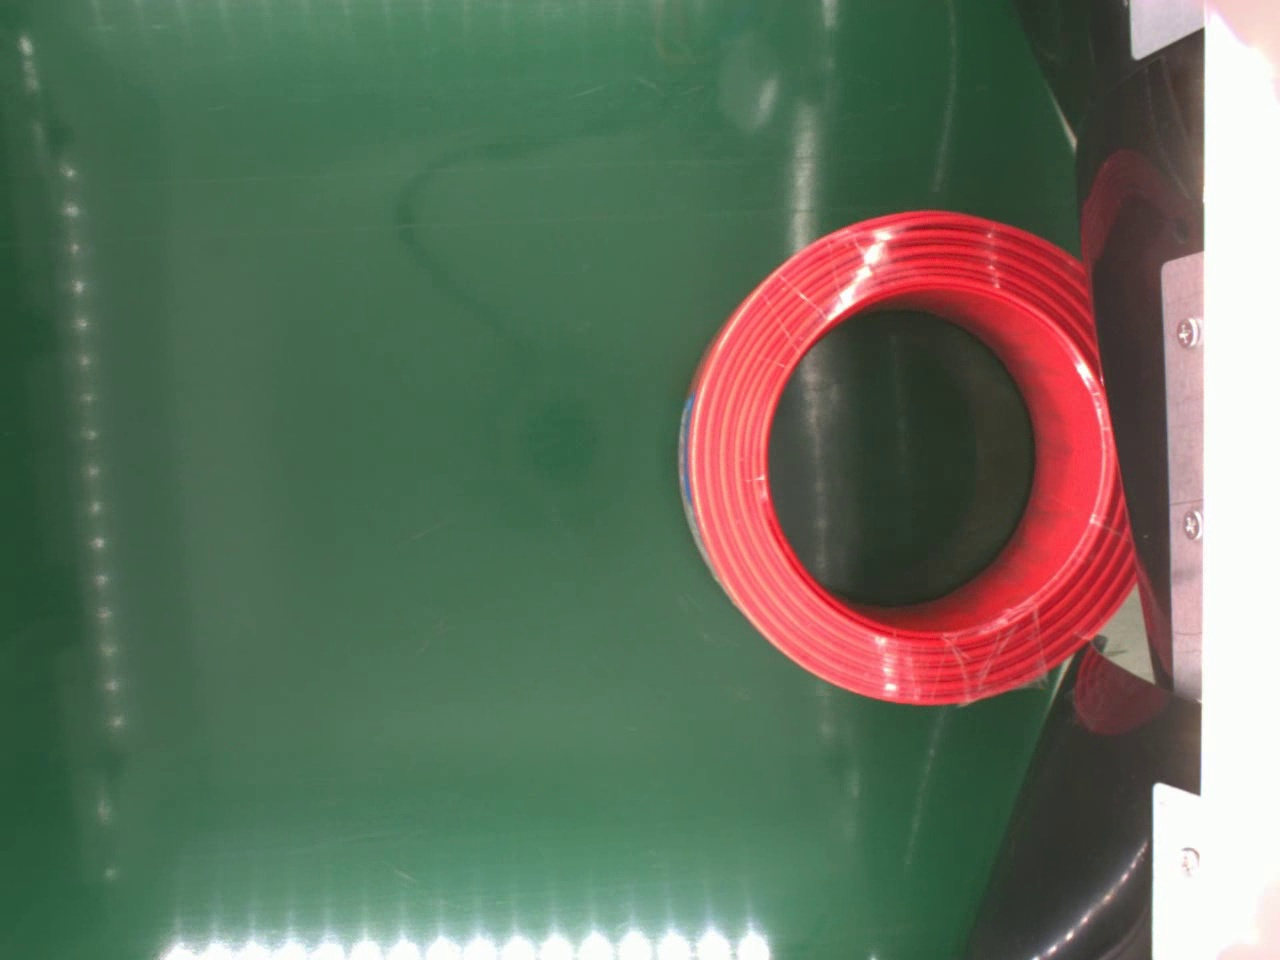red: (676, 210, 1136, 704)
